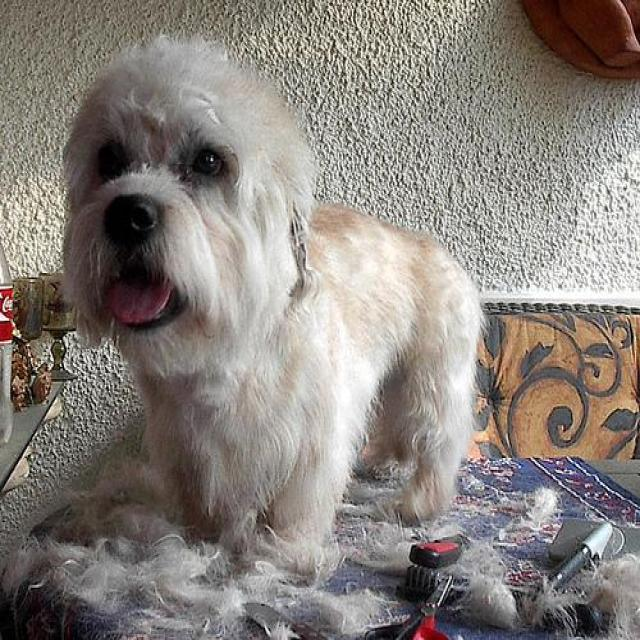dandie_dinmont: (43, 27, 496, 561)
